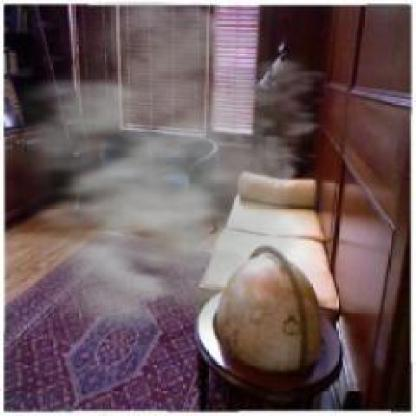Smoke: (4, 2, 360, 354)
